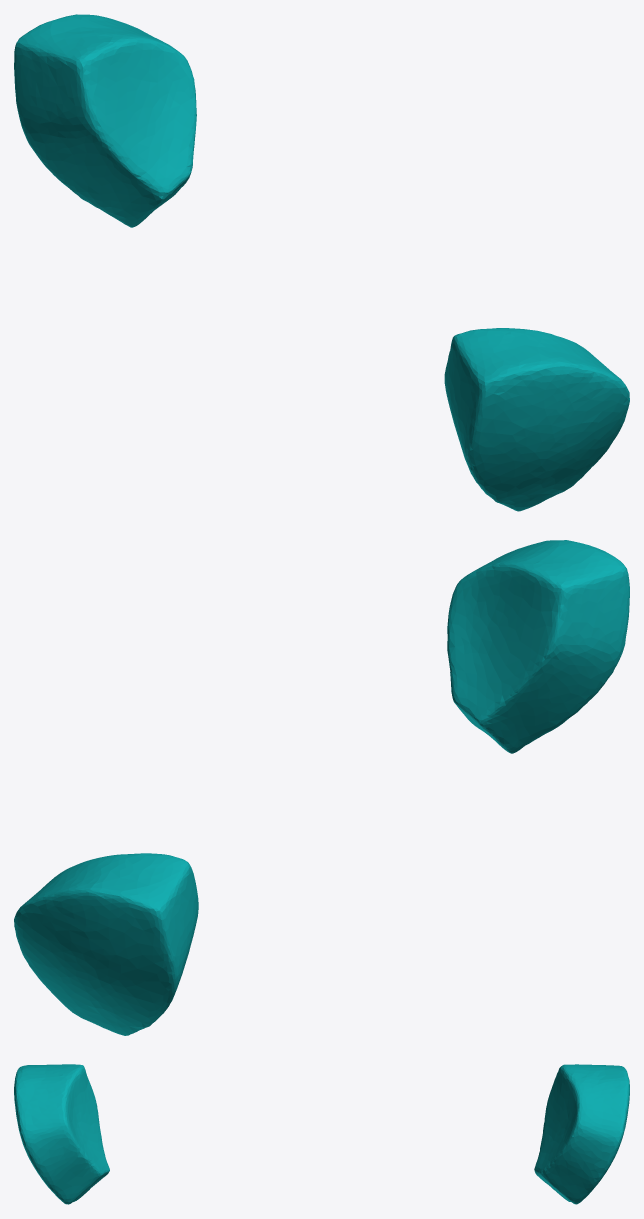
The picture shows the model from 3 angles, top to bottom: view 1: azimuth 30°, elevation 25°; view 2: azimuth 150°, elevation 25°; view 3: azimuth 270°, elevation 25°; orthographic projection. The views are drawn at different scales.
Parts seen in each view (by area): view 1: 247.obj; view 2: 247.obj; view 3: 247.obj.
Part boxes in pixels (box(x1,y1,x2,y2)): 247.obj: box(14, 14, 629, 511); 247.obj: box(14, 540, 629, 1035); 247.obj: box(14, 1064, 629, 1204).
Size of the model in its own units: 1955 by 2241 by 10357.
